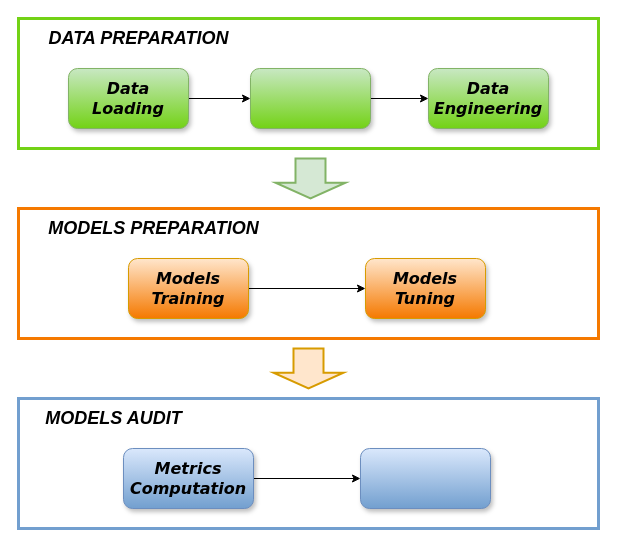
Some shapes in this 617 by 547 pixel diagram are drawn without their labels. Each missing label, with the centre of its shape:
"Error Injection" goes at pixel 311 100.
"Visualization" goes at pixel 426 480.
